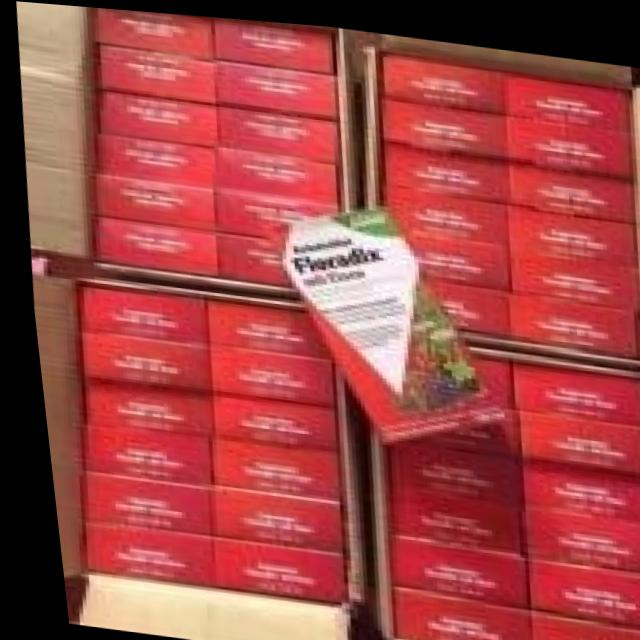box: (257, 198, 496, 439), (378, 529, 514, 599), (378, 482, 512, 547), (507, 402, 640, 467), (516, 550, 640, 619), (378, 580, 519, 640), (505, 353, 640, 415), (510, 449, 640, 513), (503, 284, 633, 348), (202, 534, 332, 598), (200, 482, 330, 546), (202, 433, 332, 497), (72, 470, 202, 534), (514, 498, 640, 564), (71, 519, 200, 583), (377, 433, 510, 495), (203, 341, 327, 404), (74, 329, 201, 390), (379, 180, 505, 241), (505, 108, 631, 169), (380, 90, 506, 151), (503, 61, 629, 122), (74, 421, 200, 482), (380, 45, 501, 107), (505, 198, 630, 258), (379, 137, 508, 195), (506, 154, 631, 212), (505, 241, 631, 298), (74, 283, 203, 338), (74, 375, 202, 430), (205, 298, 327, 355), (204, 390, 330, 445), (95, 43, 216, 100), (87, 216, 210, 272), (214, 57, 334, 114), (215, 103, 336, 157), (213, 146, 333, 200), (92, 132, 211, 186), (98, 90, 215, 143), (215, 16, 333, 68), (400, 225, 507, 281), (92, 175, 209, 226), (94, 6, 212, 54), (210, 186, 330, 232), (518, 602, 640, 640), (425, 274, 501, 329), (210, 229, 286, 281)
